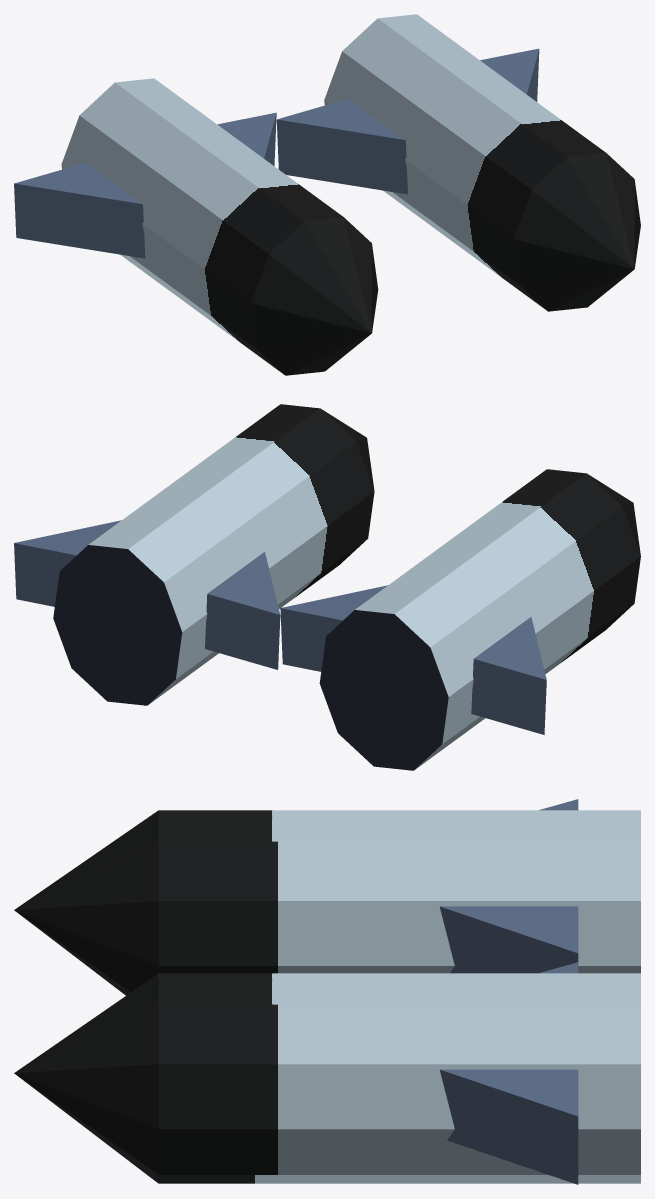
Rendered from WristRockets.gltf.
The picture shows the model from 3 angles, top to bottom: view 1: azimuth 30°, elevation 25°; view 2: azimuth 150°, elevation 25°; view 3: azimuth 270°, elevation 25°; orthographic projection. The views are drawn at different scales.
Visible parts, largest first — view 1: cylinder (×2), cuboid (×4); view 2: cylinder (×2), cuboid (×4); view 3: cylinder (×2), cuboid (×2).
Boxes of the visible parts, bbox=[...] form: cylinder (×2): bbox=[61, 14, 640, 375]; cuboid (×4): bbox=[14, 48, 539, 258]; cylinder (×2): bbox=[53, 404, 640, 770]; cuboid (×4): bbox=[14, 520, 546, 734]; cylinder (×2): bbox=[14, 810, 640, 1183]; cuboid (×2): bbox=[439, 906, 578, 1184].
Size of the model in its own units: 0.5 by 0.1413 by 0.4062.
Materials: 1 (1 with a texture image).
